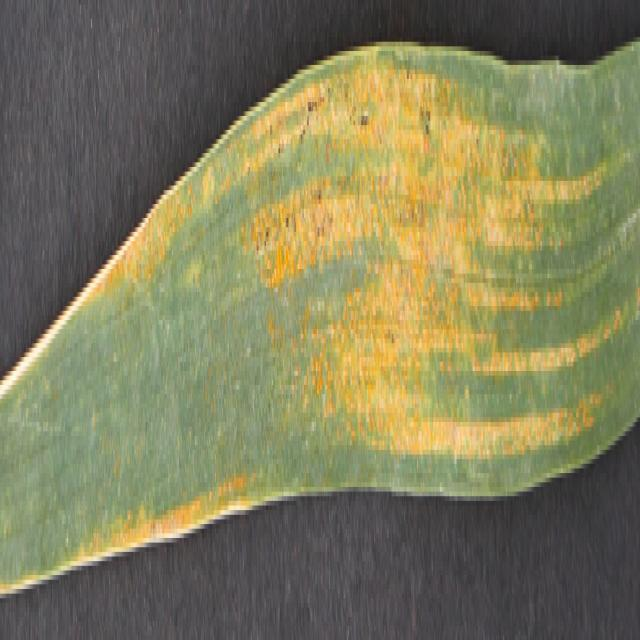leaf rust: (87, 37, 628, 580)
